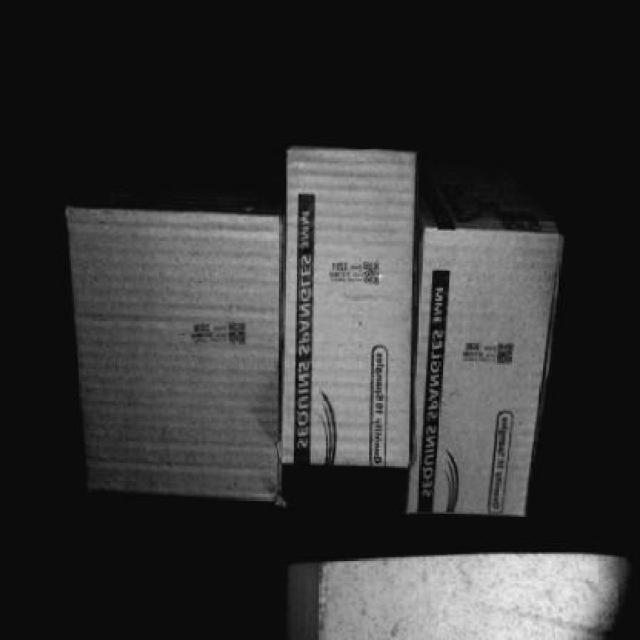cardboxes: (66, 211, 277, 487), (410, 228, 559, 517), (279, 146, 413, 466)
